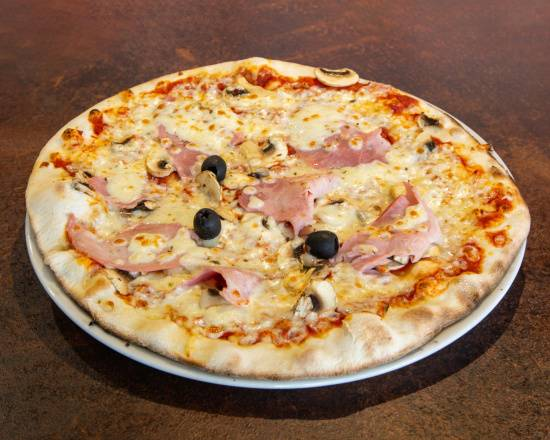Ham: (344, 189, 442, 285), (51, 214, 197, 272), (235, 173, 344, 234), (152, 112, 246, 179), (277, 124, 403, 167), (183, 268, 269, 309), (81, 167, 166, 207)
Olives: (302, 229, 340, 259), (191, 206, 223, 240), (201, 152, 226, 181)
Pizza: (12, 57, 533, 385)
